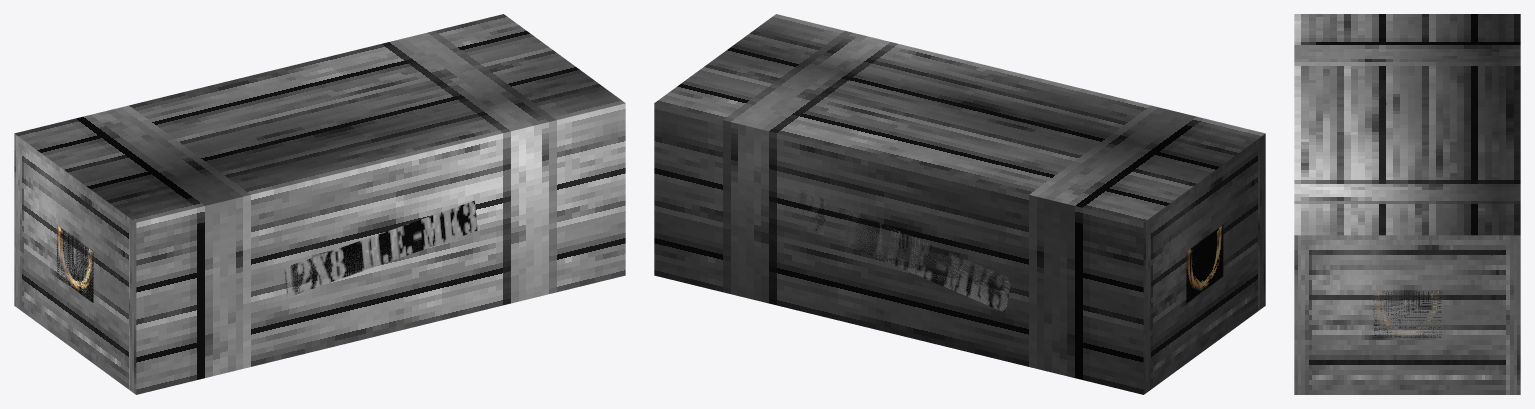
File: Pammo_crate2Z.obj
3 views of the same model, side by side, from view 1: azimuth 30°, elevation 25°; view 2: azimuth 150°, elevation 25°; view 3: azimuth 270°, elevation 25° (orthographic). The views are drawn at different scales.
Size of the model in its own units: 1214 by 408 by 524.
4 materials, 4 textured.
